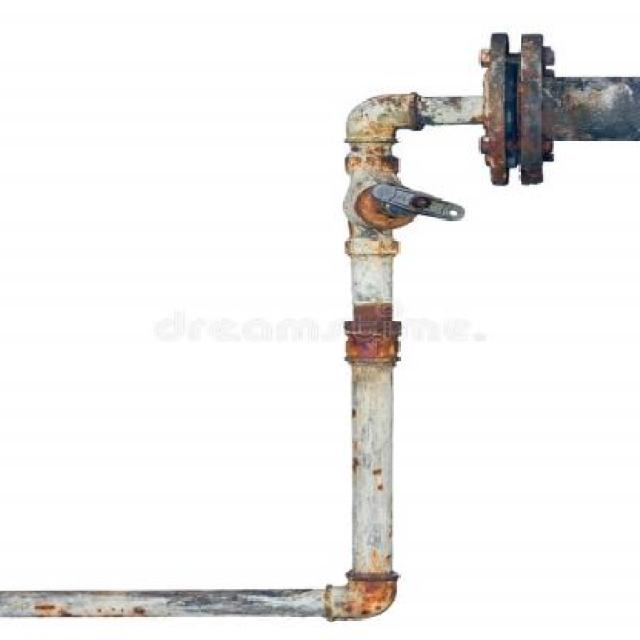corrosion: (338, 187, 462, 622), (344, 36, 636, 186), (15, 585, 398, 623)
